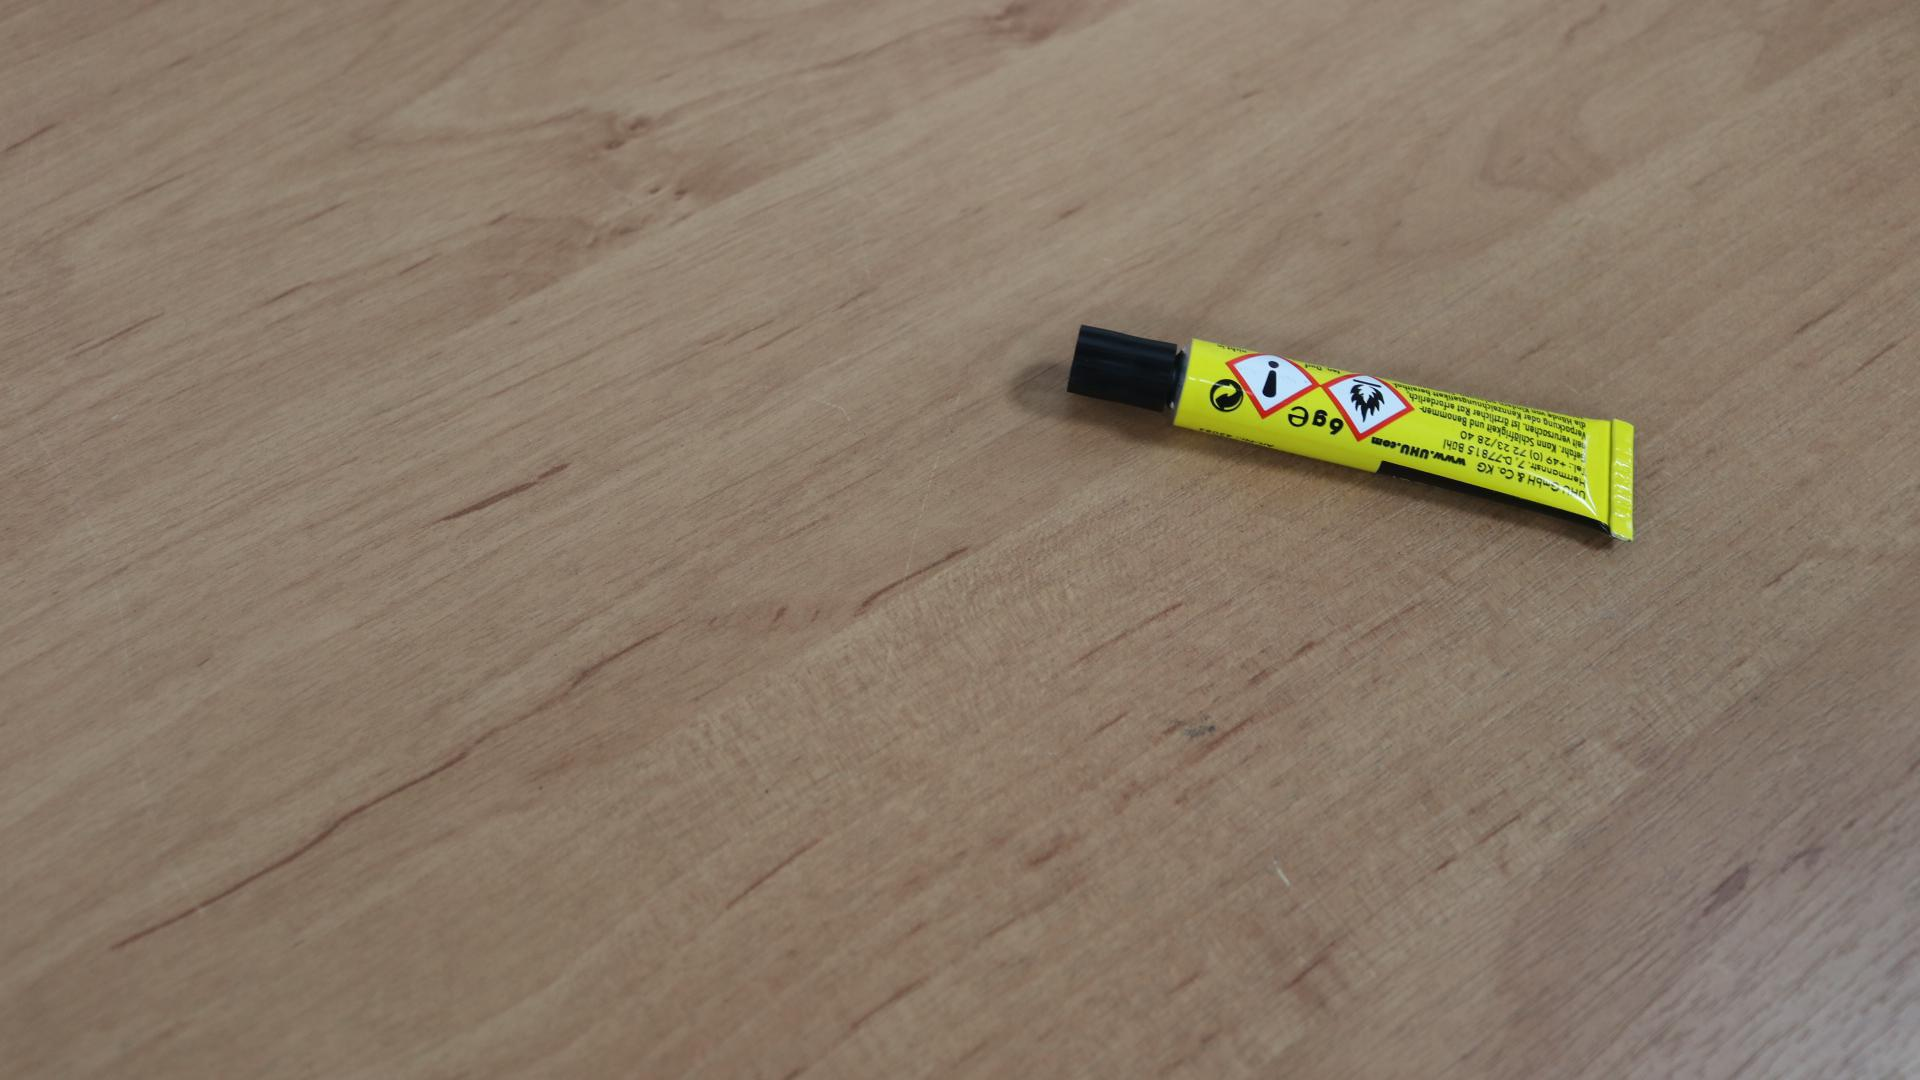Head: (1119, 357, 1136, 372)
Tail: (1614, 467, 1630, 487)
Tube: (1065, 321, 1635, 545)
